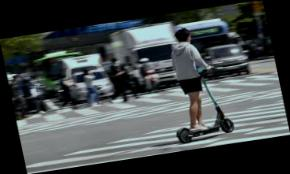nonhelmet: (153, 22, 238, 145)
